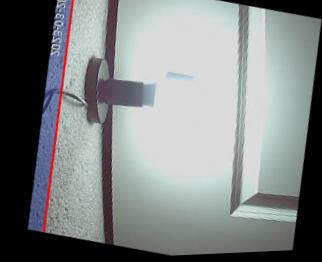TubeLight: (146, 67, 208, 128)
